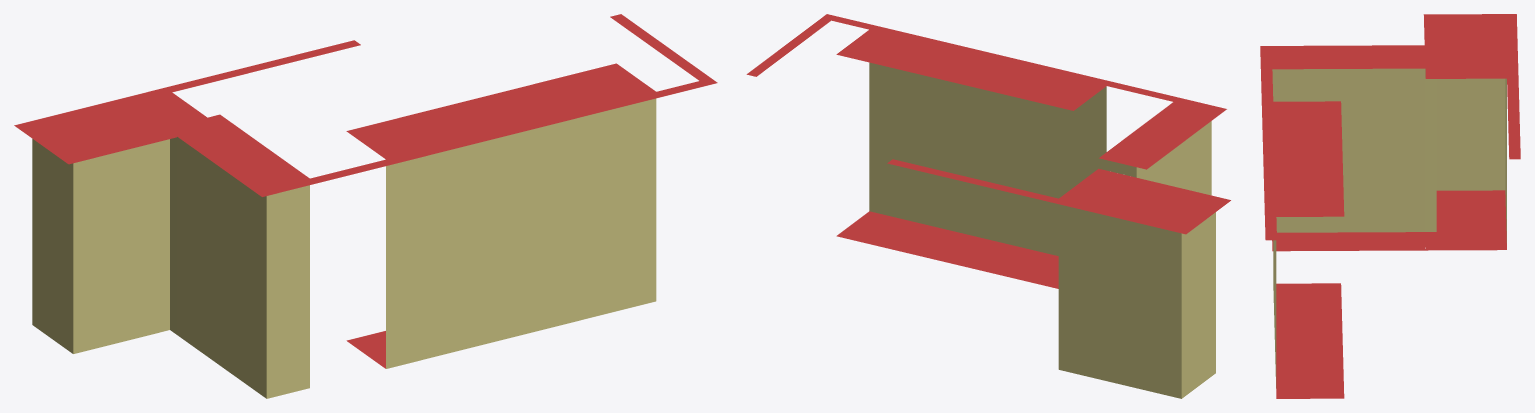
3 views of the same model, side by side, from view 1: azimuth 30°, elevation 25°; view 2: azimuth 150°, elevation 25°; view 3: azimuth 270°, elevation 25° (orthographic). The views are drawn at different scales.
Bounding box in the file's own units: 24.21 × 11.25 × 8.67.
